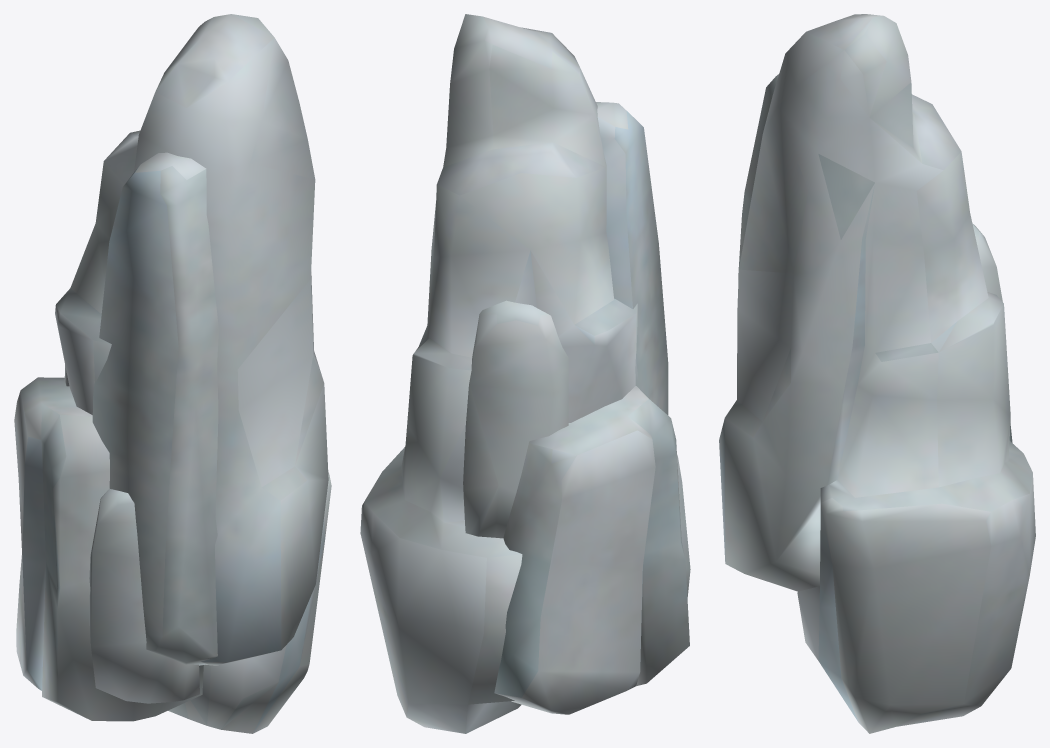
The model's file is P_RockSpire_Spire05.obj.
The picture shows the model from 3 angles, left to right: view 1: azimuth 30°, elevation 25°; view 2: azimuth 150°, elevation 25°; view 3: azimuth 270°, elevation 25°; orthographic projection. The views are drawn at different scales.
Size of the model in its own units: 41.27 by 100 by 41.23.
